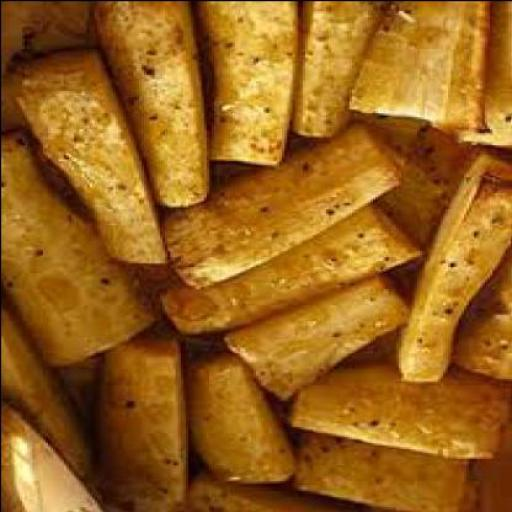biodegradable: (164, 126, 405, 292), (153, 204, 419, 338), (1, 134, 149, 373), (10, 50, 170, 266), (392, 150, 510, 384), (88, 2, 210, 212), (283, 360, 510, 460), (219, 280, 403, 402), (344, 2, 498, 132), (372, 110, 468, 294), (194, 2, 296, 170), (89, 337, 187, 511), (0, 292, 86, 486), (288, 438, 479, 511), (286, 2, 382, 144), (185, 357, 294, 482), (1, 1, 89, 137), (2, 400, 98, 511), (450, 2, 509, 148), (450, 248, 509, 386), (185, 481, 400, 511)
